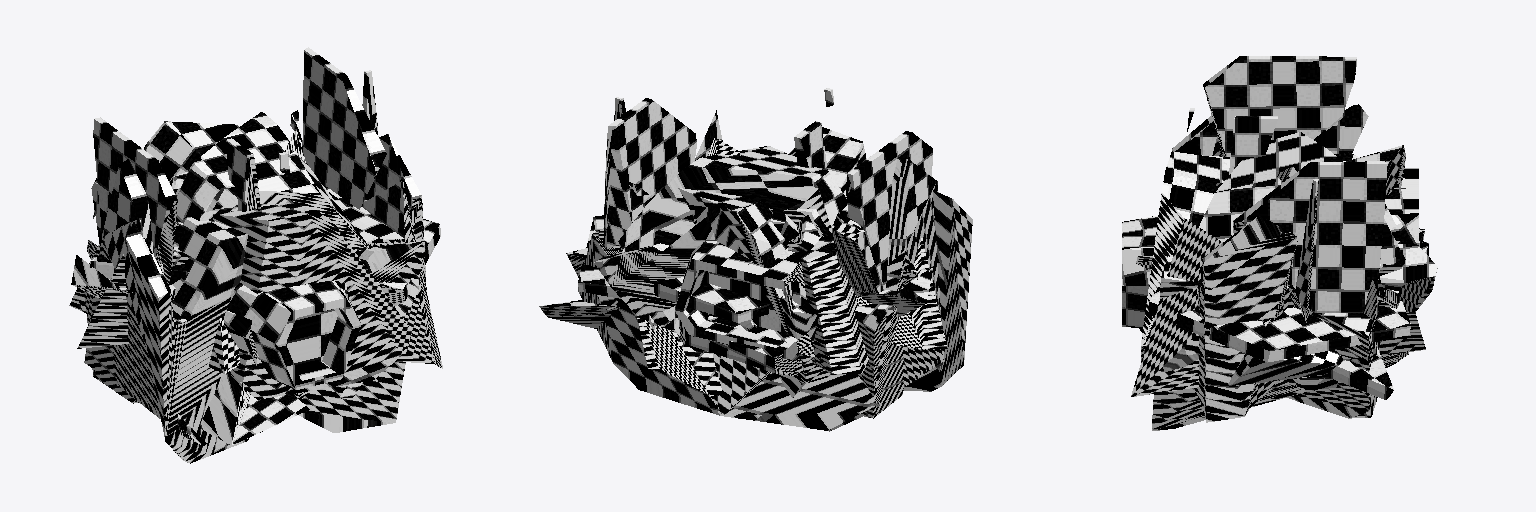
3 renders of one model, left to right at view 1: azimuth 30°, elevation 25°; view 2: azimuth 150°, elevation 25°; view 3: azimuth 270°, elevation 25°, orthographic.
Visible parts, largest first — view 1: space_frigate_6_Part_19, space_frigate_6_Part_22, space_frigate_6_Part_18, space_frigate_6_Part_16, space_frigate_6_Part_21, space_frigate_6_Part_24, space_frigate_6_Part_20, space_frigate_6_Part_27, space_frigate_6_Part_9, space_frigate_6_Part_17, space_frigate_6_Part_8, space_frigate_6_Part_26 (+4 smaller); view 2: space_frigate_6_Part_21, space_frigate_6_Part_19, space_frigate_6_Part_16, space_frigate_6_Part_22, space_frigate_6_Part_20, space_frigate_6_Part_17, space_frigate_6_Part_7, space_frigate_6_Part_1, space_frigate_6_Part_18, space_frigate_6_Part_9, space_frigate_6_Part_8, space_frigate_6_Part_27 (+4 smaller); view 3: space_frigate_6_Part_19, space_frigate_6_Part_26, space_frigate_6_Part_20, space_frigate_6_Part_22, space_frigate_6_Part_27, space_frigate_6_Part_8, space_frigate_6_Part_16, space_frigate_6_Part_18, space_frigate_6_Part_24, space_frigate_6_Part_1, space_frigate_6_Part_21, space_frigate_6_Part_10 (+5 smaller).
Boxes of the visible parts, x1=… form: space_frigate_6_Part_19: x1=126, y1=47, x2=386, y2=463; space_frigate_6_Part_22: x1=87, y1=203, x2=412, y2=399; space_frigate_6_Part_18: x1=227, y1=280, x2=360, y2=389; space_frigate_6_Part_16: x1=176, y1=112, x2=418, y2=397; space_frigate_6_Part_21: x1=84, y1=159, x2=206, y2=445; space_frigate_6_Part_24: x1=279, y1=152, x2=425, y2=432; space_frigate_6_Part_20: x1=84, y1=70, x2=378, y2=403; space_frigate_6_Part_27: x1=323, y1=181, x2=442, y2=368; space_frigate_6_Part_9: x1=198, y1=129, x2=368, y2=444; space_frigate_6_Part_17: x1=144, y1=121, x2=256, y2=365; space_frigate_6_Part_8: x1=77, y1=219, x2=440, y2=348; space_frigate_6_Part_26: x1=368, y1=134, x2=426, y2=289; space_frigate_6_Part_21: x1=578, y1=157, x2=944, y2=430; space_frigate_6_Part_19: x1=566, y1=98, x2=972, y2=391; space_frigate_6_Part_16: x1=618, y1=146, x2=846, y2=352; space_frigate_6_Part_22: x1=675, y1=127, x2=866, y2=359; space_frigate_6_Part_20: x1=614, y1=97, x2=932, y2=431; space_frigate_6_Part_17: x1=678, y1=188, x2=823, y2=397; space_frigate_6_Part_7: x1=795, y1=233, x2=868, y2=374; space_frigate_6_Part_1: x1=539, y1=213, x2=933, y2=328; space_frigate_6_Part_18: x1=594, y1=217, x2=715, y2=331; space_frigate_6_Part_9: x1=623, y1=138, x2=741, y2=395; space_frigate_6_Part_8: x1=578, y1=215, x2=947, y2=349; space_frigate_6_Part_27: x1=677, y1=110, x2=802, y2=375; space_frigate_6_Part_19: x1=1172, y1=115, x2=1387, y2=359; space_frigate_6_Part_26: x1=1194, y1=215, x2=1297, y2=422; space_frigate_6_Part_20: x1=1203, y1=56, x2=1356, y2=322; space_frigate_6_Part_22: x1=1141, y1=151, x2=1418, y2=360; space_frigate_6_Part_27: x1=1131, y1=218, x2=1428, y2=396; space_frigate_6_Part_8: x1=1149, y1=287, x2=1410, y2=362; space_frigate_6_Part_16: x1=1199, y1=132, x2=1405, y2=265; space_frigate_6_Part_18: x1=1122, y1=204, x2=1437, y2=328; space_frigate_6_Part_24: x1=1152, y1=108, x2=1408, y2=430; space_frigate_6_Part_1: x1=1314, y1=104, x2=1393, y2=399; space_frigate_6_Part_21: x1=1212, y1=136, x2=1379, y2=418; space_frigate_6_Part_10: x1=1228, y1=350, x2=1342, y2=385.
Size of the model in its own units: 3.76 by 2.88 by 2.87.
Materials: 27 (1 with a texture image).